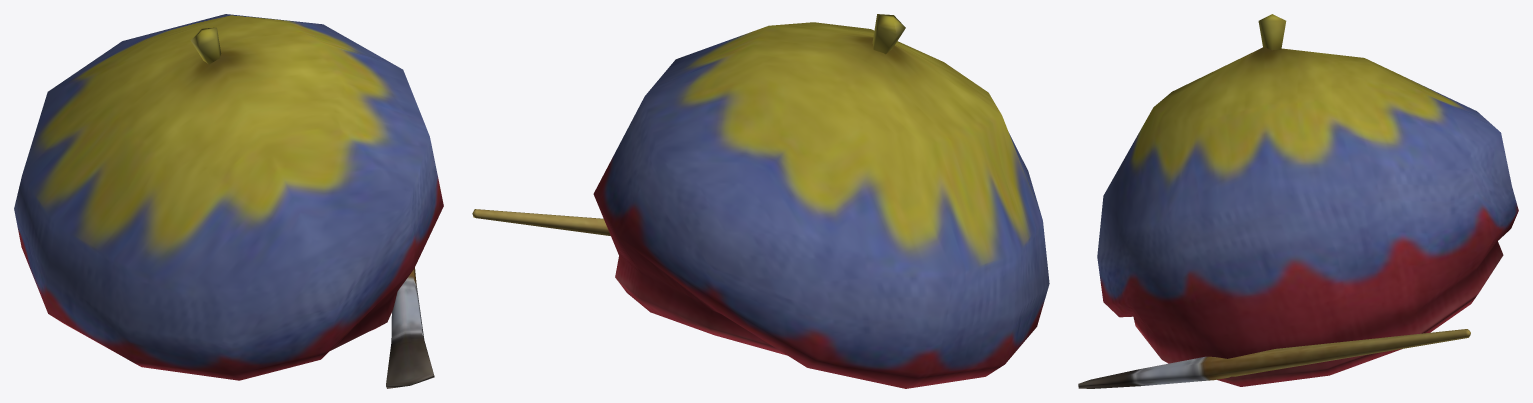
Rendered from artistHat.glb.
The picture shows the model from 3 angles, left to right: view 1: azimuth 30°, elevation 25°; view 2: azimuth 150°, elevation 25°; view 3: azimuth 270°, elevation 25°; orthographic projection. The views are drawn at different scales.
Parts seen in each view (by area): view 1: artistHat; view 2: artistHat; view 3: artistHat.
Boxes of the visible parts, x1,y1,x2,y2 form: artistHat: (14,14,443,388); artistHat: (472,14,1049,388); artistHat: (1078,14,1518,388).
Size of the model in its own units: 0.4432 by 0.3204 by 0.3981.
Materials: 1 (1 with a texture image).
